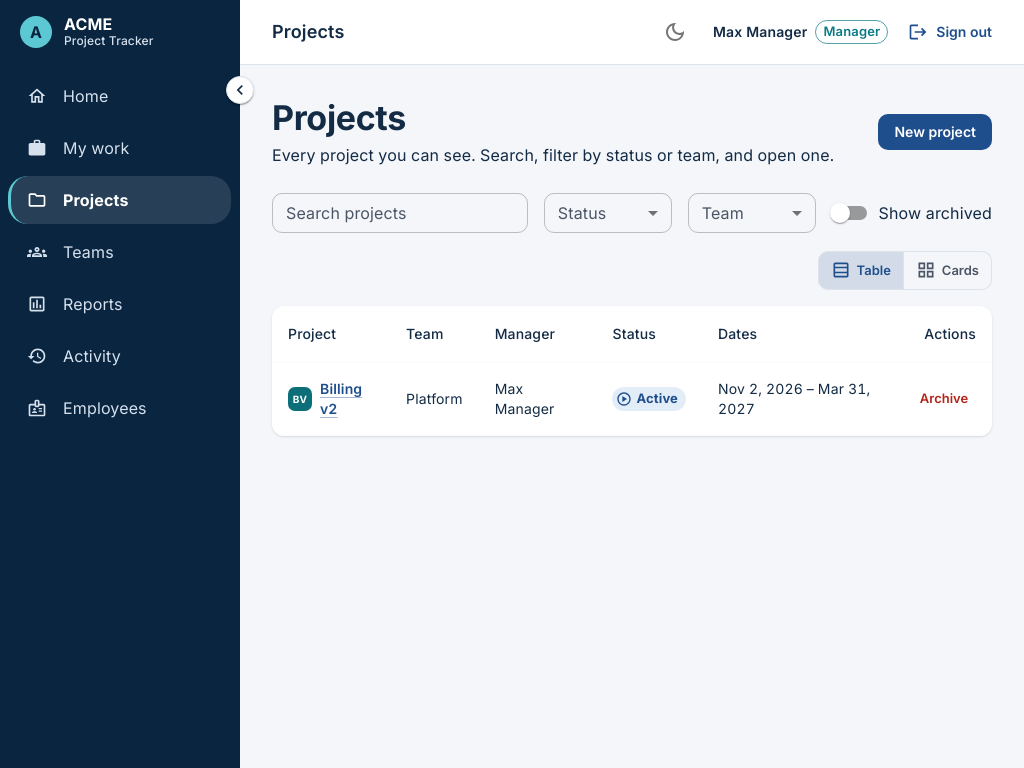
it: Projects: unarchive (admin and the team’s manager) › the team’s manager sees the archived project muted and unarchives it
Expected: the table named "Projects" is shown, [272,306,992,436]
Click the switch labelled "Show archived": x=911, y=213 [830,203,992,223]
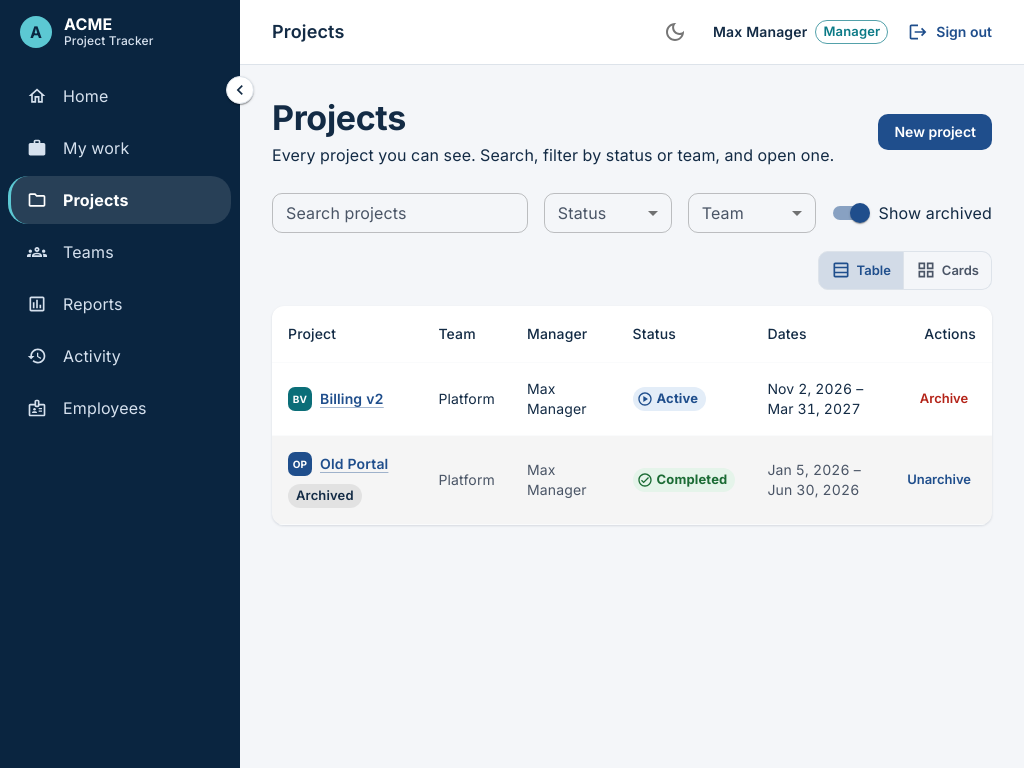
Click the button with aria-label "Unarchive Old Portal": x=939, y=480 [902,464,976,495]
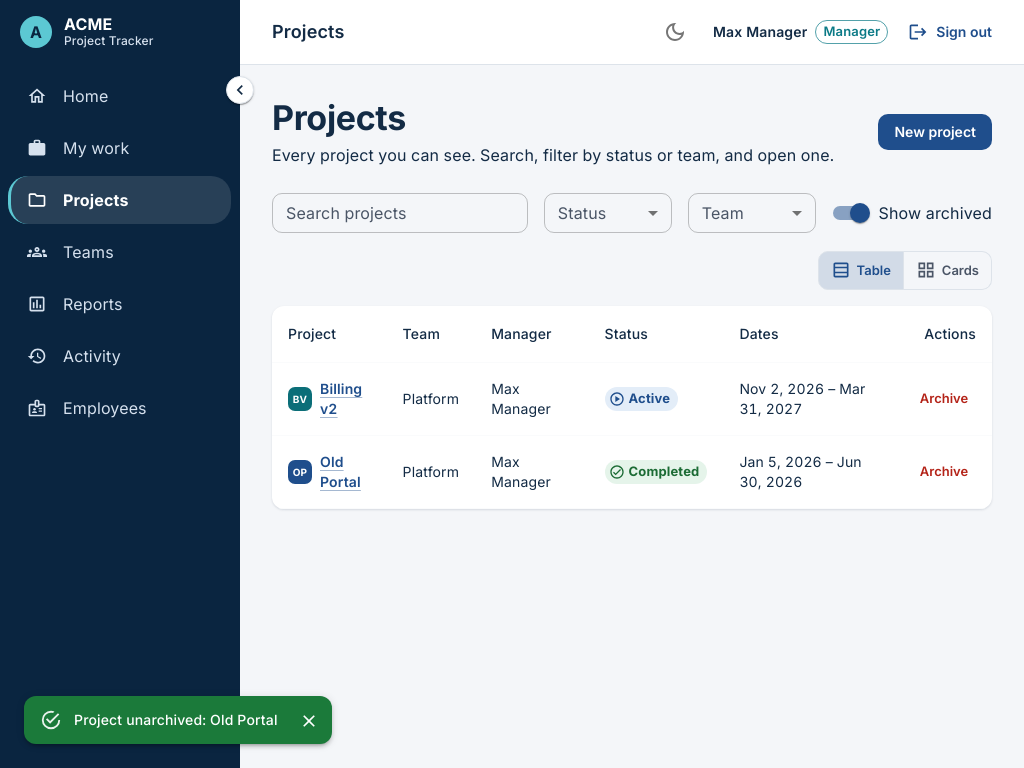
Result: the button with aria-label "Archive Old Portal" is shown at [912,456,976,487]
Result: the message reads "Project unarchived: Old Portal" at [74,711,278,728]
